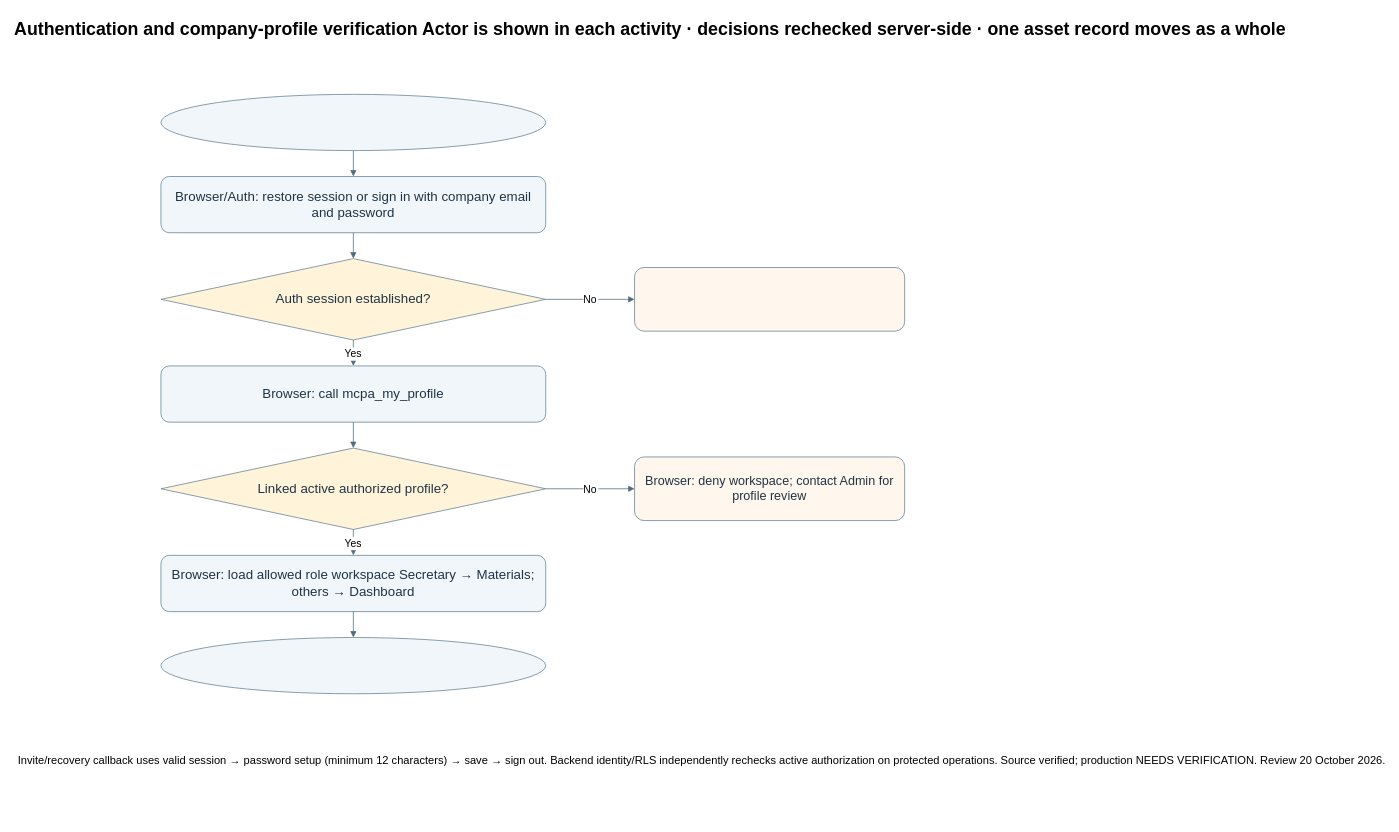
Image size: 1399x832. Some labels were removed from this diagram. Each missing label, with the centre of its shape:
"Browser: show credential, invitation or connection error; allow retry" belongs at pixel 769 299.
"User: open either application entry" belongs at pixel 353 122.
"User: workspace ready / logout available" belongs at pixel 353 665.
